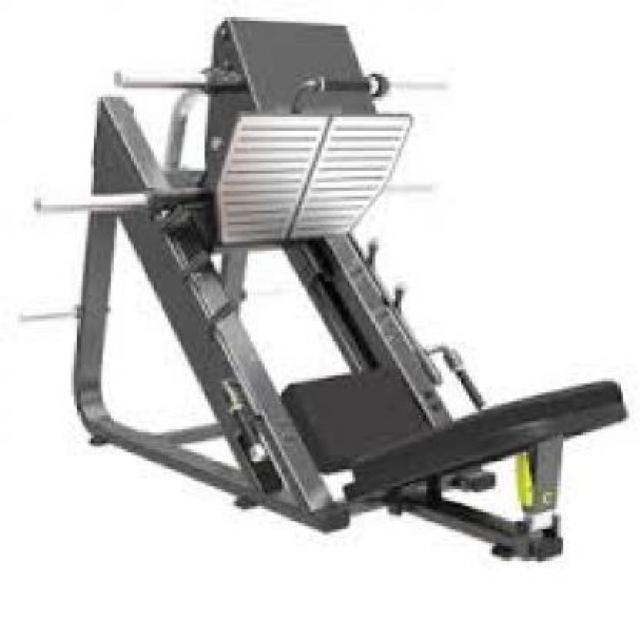leg press: (20, 16, 635, 582)
